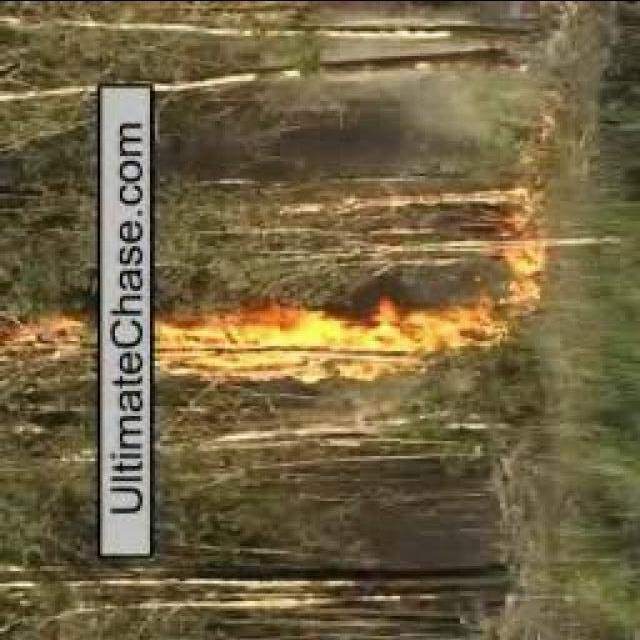Fire: (376, 198, 544, 380), (165, 307, 357, 379), (12, 312, 86, 361)
